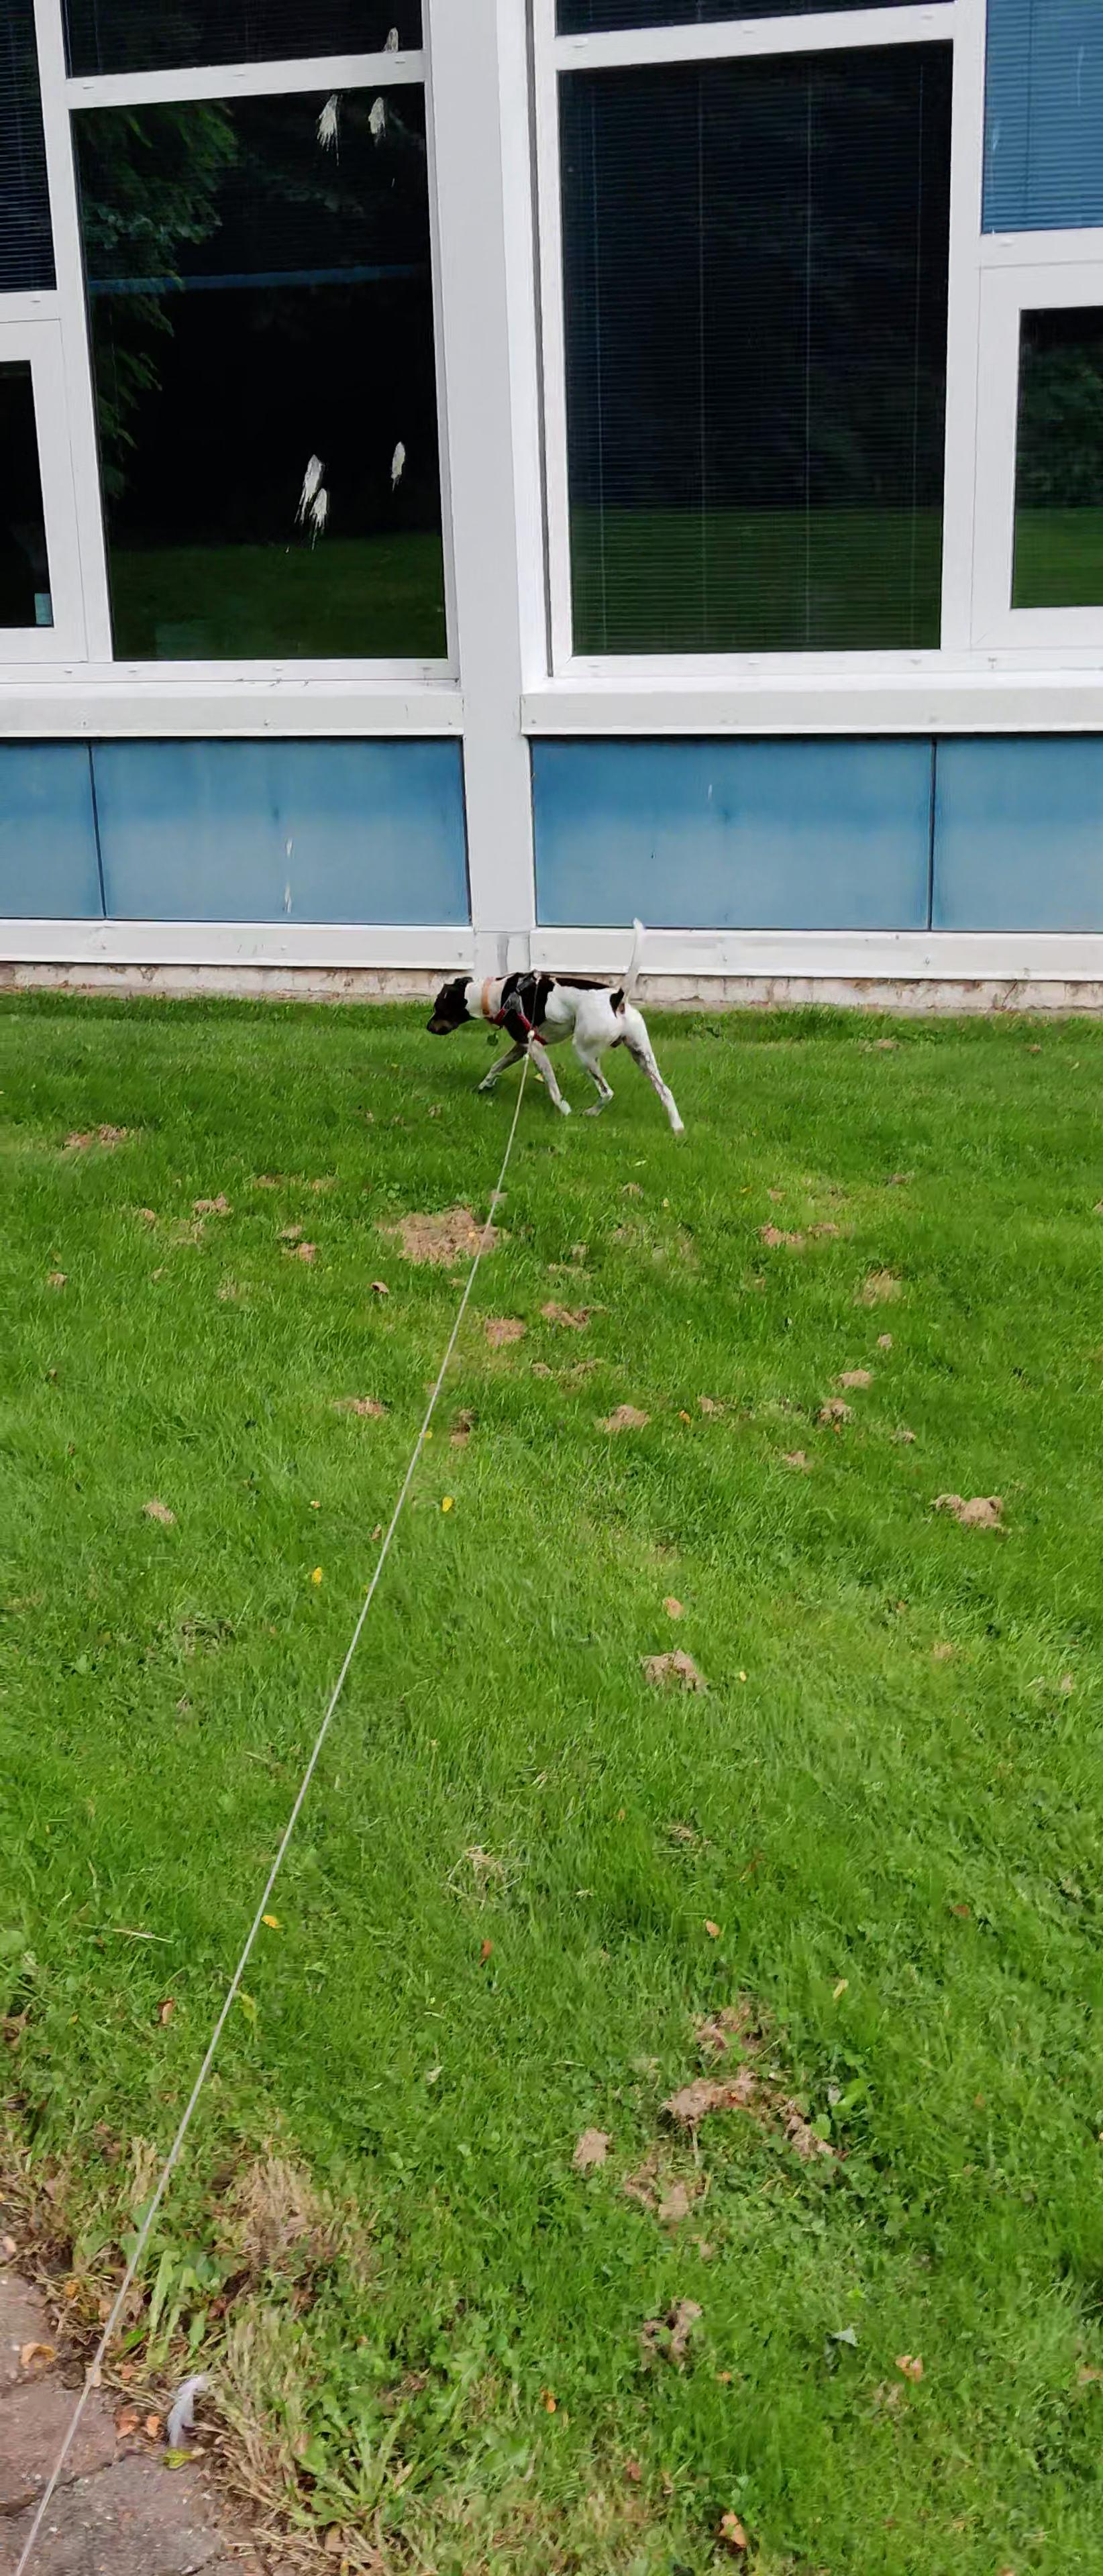Dog: (419, 913, 687, 1137)
